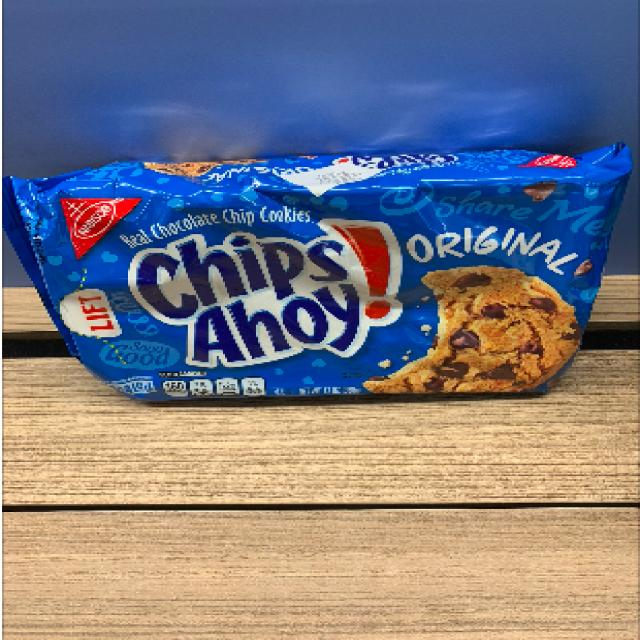object_name: (21, 170, 599, 394)
